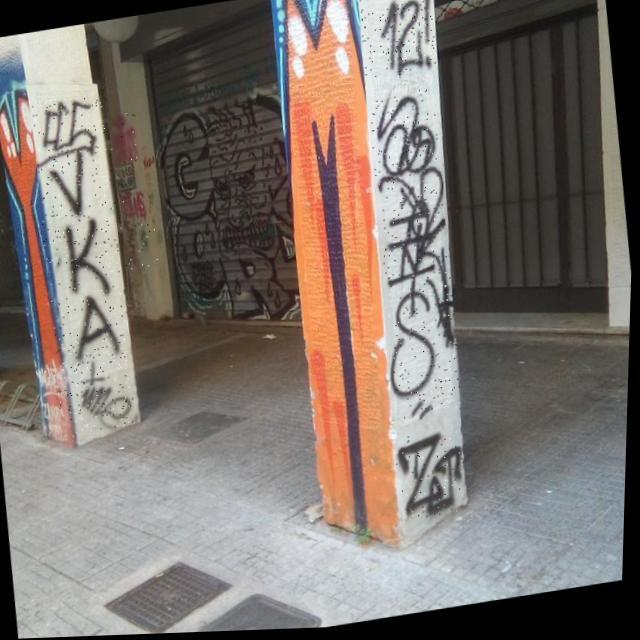-: (24, 94, 146, 437), (361, 89, 473, 424), (392, 431, 472, 531), (356, 0, 439, 83), (120, 222, 162, 270), (107, 112, 144, 166), (117, 190, 156, 226)
